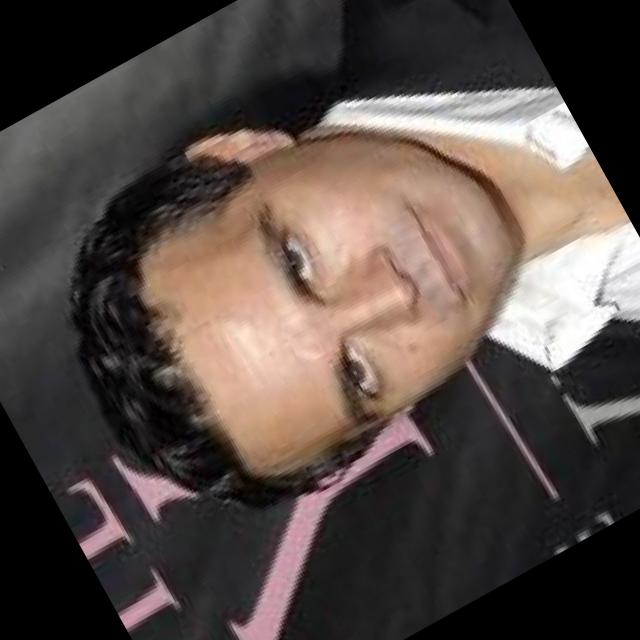bareface: (0, 34, 545, 552)
